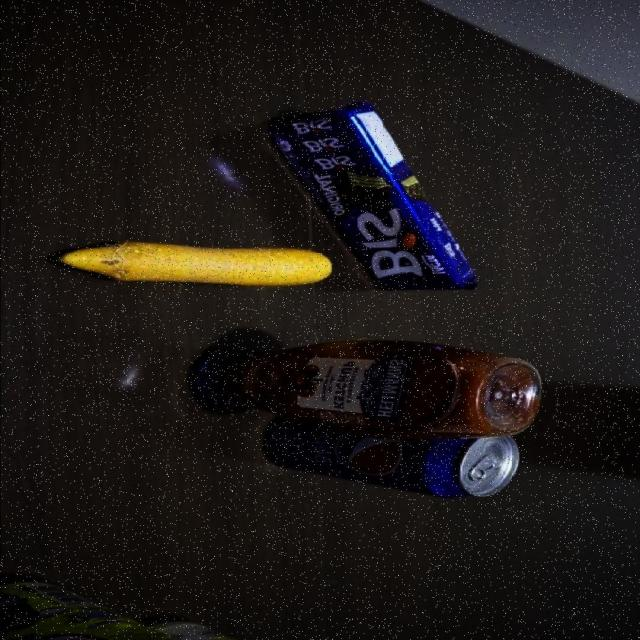Carrot: (53, 240, 334, 288)
ChocolatePowder: (0, 570, 196, 640)
Ketchup: (188, 338, 538, 436)
SodaCan: (263, 420, 519, 503)
